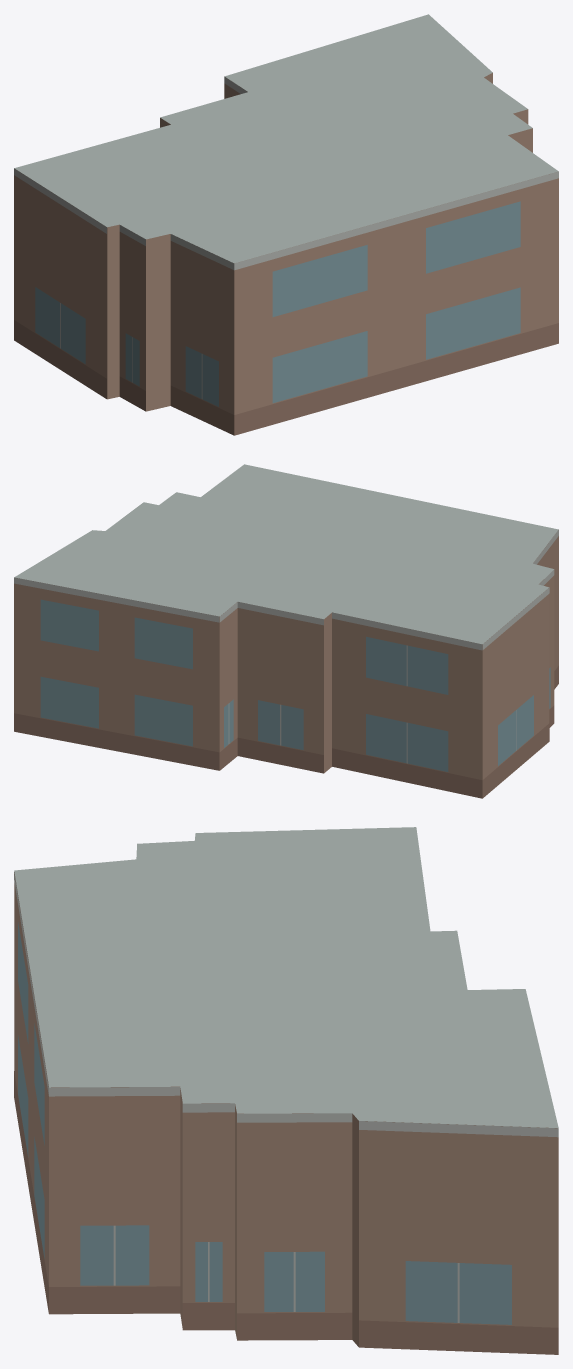
The model's file is survey-upis-32690964.glb.
The picture shows the model from 3 angles, top to bottom: view 1: azimuth 30°, elevation 25°; view 2: azimuth 150°, elevation 25°; view 3: azimuth 270°, elevation 25°; orthographic projection. The views are drawn at different scales.
Visible parts, largest first — view 1: survey-upis-32690964.tmp; view 2: survey-upis-32690964.tmp; view 3: survey-upis-32690964.tmp.
Part boxes in pixels (x1,y1,x2,y2): survey-upis-32690964.tmp: (14, 14, 558, 435); survey-upis-32690964.tmp: (14, 464, 558, 798); survey-upis-32690964.tmp: (14, 827, 558, 1354).
Bounding box in the file's own units: 17.39 × 6.1 × 13.29.
